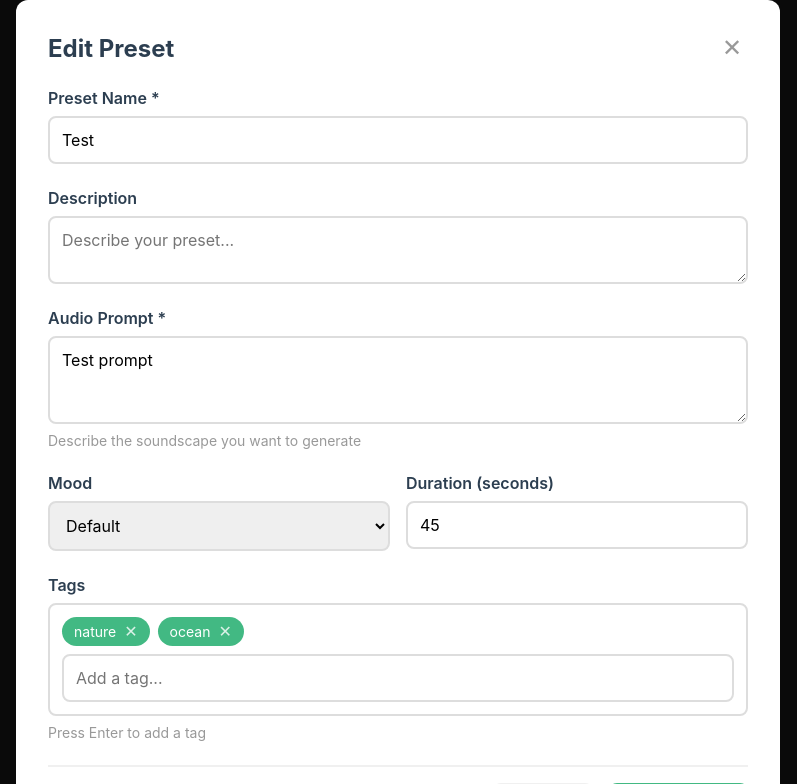
Test case: PresetEditor › removes tag when tag remove button is clicked
Check: the number of elements with class "tag" is 2, box top-left (62, 617), bottom-right (150, 646); top-left (158, 617), bottom-right (244, 646)
Click the button with class "tag-remove" next to "nature".
click(131, 632)  # box top-left (124, 624), bottom-right (138, 640)
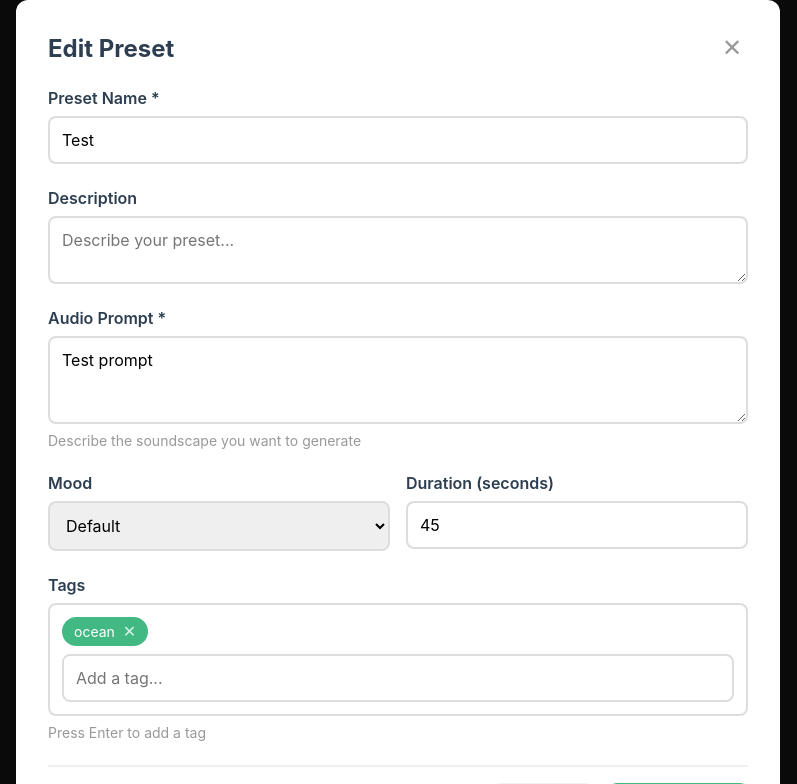
Check: the number of elements with class "tag" is 1, box top-left (62, 617), bottom-right (148, 646)
